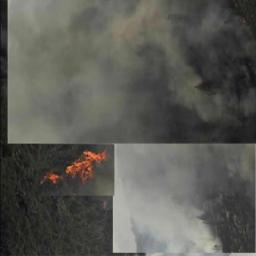Heavy smoke: (11, 1, 232, 141), (117, 144, 213, 252)
Medium fire: (47, 147, 111, 191)
